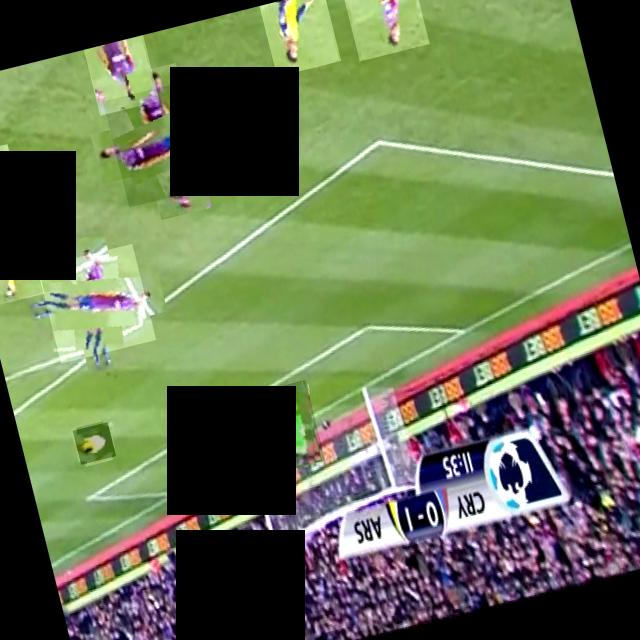ball: (72, 422, 116, 464)
goalkeeper: (269, 379, 325, 468)
soccer-player: (102, 75, 234, 207), (37, 243, 156, 363), (0, 143, 44, 306), (259, 0, 341, 76), (84, 34, 160, 116), (340, 0, 429, 60)
